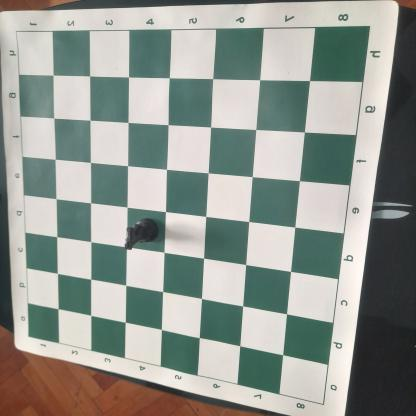black-knight: (124, 216, 159, 250)
